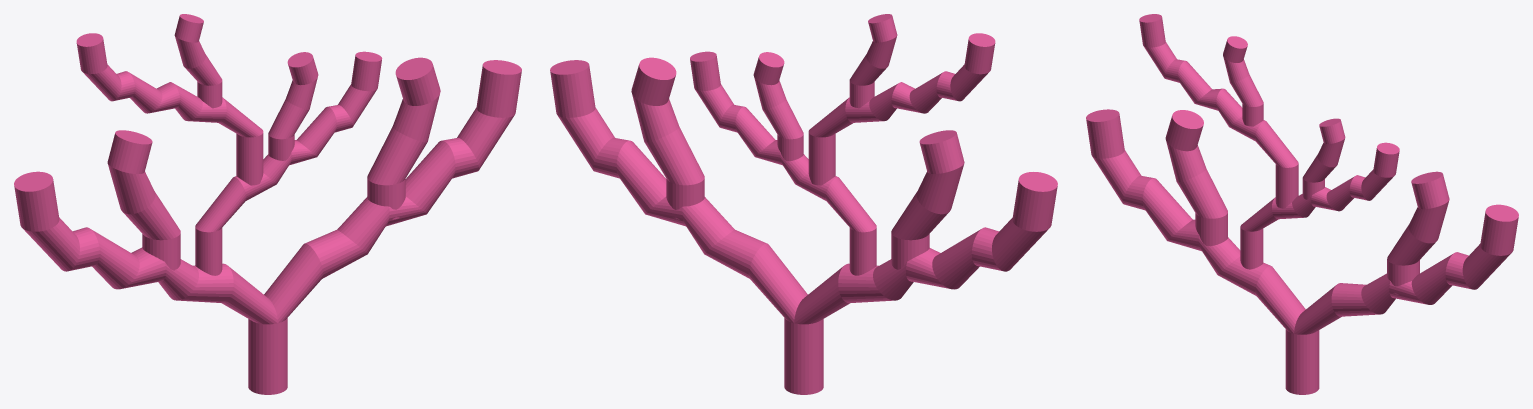
3 views of the same model, side by side, from view 1: azimuth 30°, elevation 25°; view 2: azimuth 150°, elevation 25°; view 3: azimuth 330°, elevation 25° (orthographic). The views are drawn at different scales.
Parts seen in each view (by area): view 1: Cylinder.002; view 2: Cylinder.002; view 3: Cylinder.002.
Boxes of the visible parts, x1,y1,x2,y2 form: Cylinder.002: [14, 14, 521, 394]; Cylinder.002: [550, 14, 1057, 394]; Cylinder.002: [1086, 14, 1518, 394].
Bounding box in the file's own units: 1.36 × 1.01 × 0.0927.
